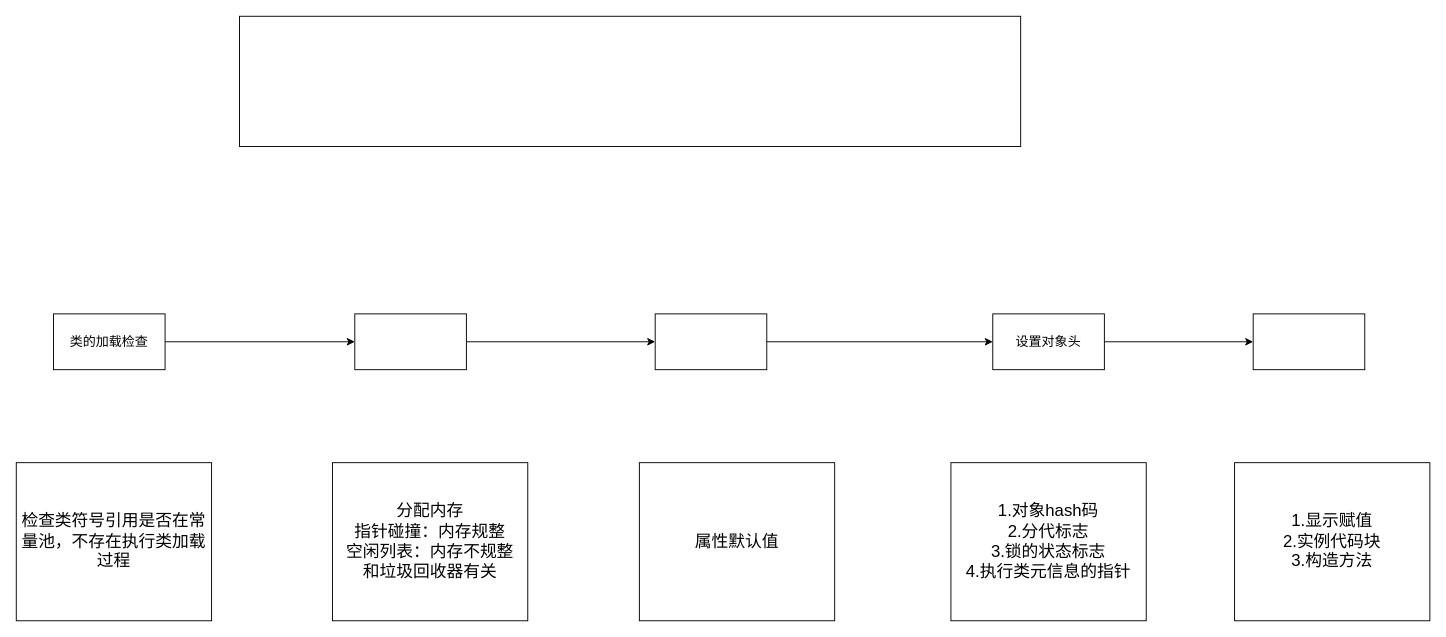
Image size: 1446x637. Some labels were removed from this diagram. The centre of each missing label's shape, as x and y in pixels:
"分配内存空间" belongs at (x=410, y=341).
"创建对象的步骤" belongs at (x=630, y=80).
"初始化零值" belongs at (x=710, y=341).
"执行<init>" belongs at (x=1308, y=341).
